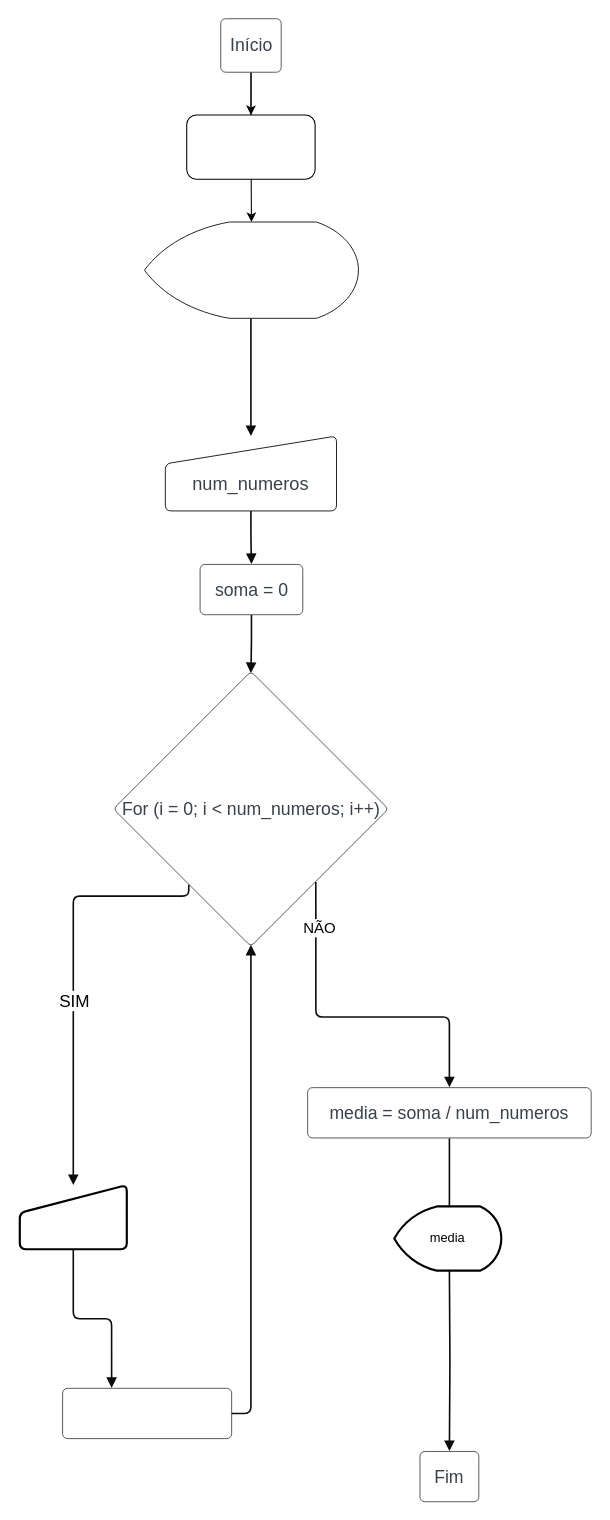
This 610x1520 diagram has some shape labels left out. The centre of each missing label's shape, as x and y in pixels:
"Qual é a quantidade de números que deseja calcular a média?": (250,269)
num_numeros, i, numero, media, soma: (250,146)
numero: (72,1216)
soma += numero: (147,1413)
